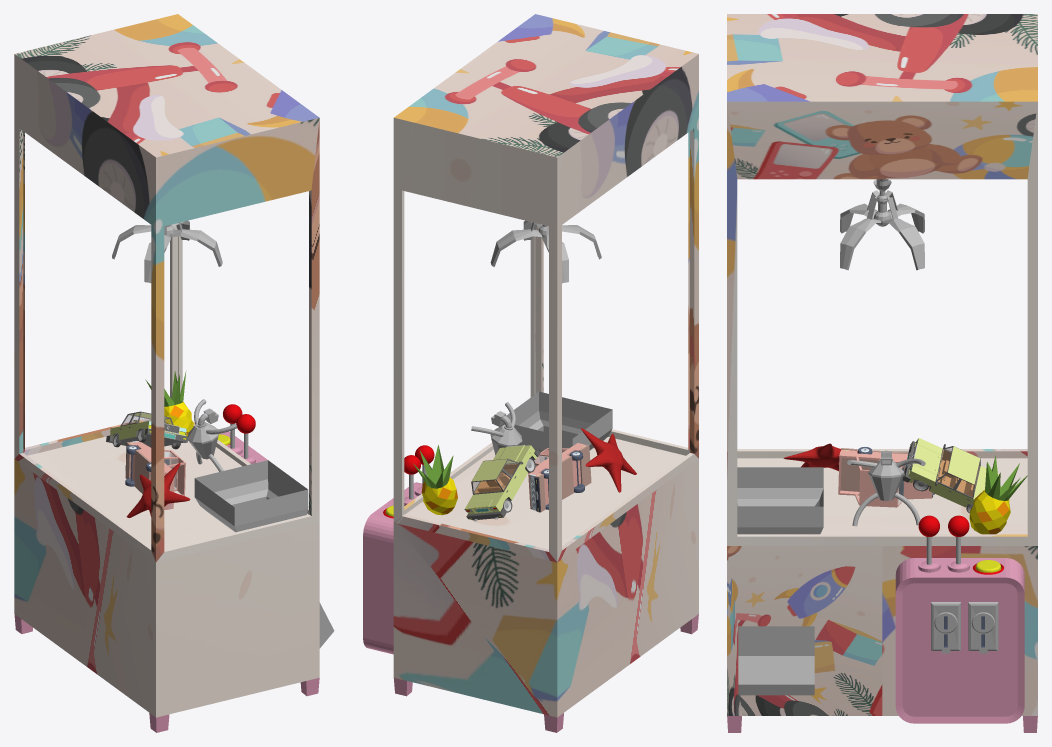
The model's file is clawmachine.fbx.
3 renders of one model, left to right at view 1: azimuth 30°, elevation 25°; view 2: azimuth 150°, elevation 25°; view 3: azimuth 270°, elevation 25°, orthographic. The views are drawn at different scales.
Visible parts, largest first — view 1: machine, car, claw, CarBody, robot, pineaple, star; view 2: machine, CarBody, car, pineaple, claw, star, robot; view 3: machine, CarBody, claw, car, pineaple, robot, star, joystick, joystick.001.
Part boxes in pixels (<box>): machine: <box>14,14,334,732</box>; car: <box>125,441,185,509</box>; claw: <box>112,220,222,283</box>; CarBody: <box>106,411,187,447</box>; robot: <box>187,399,237,471</box>; pineaple: <box>145,371,193,436</box>; star: <box>126,463,190,517</box>; machine: <box>363,14,698,732</box>; CarBody: <box>464,445,540,521</box>; car: <box>528,443,591,512</box>; pineaple: <box>413,445,457,515</box>; claw: <box>490,220,601,283</box>; star: <box>581,428,636,492</box>; robot: <box>471,402,522,455</box>; machine: <box>727,14,1037,732</box>; CarBody: <box>902,438,999,507</box>; claw: <box>840,179,924,270</box>; car: <box>838,447,934,507</box>; pineaple: <box>969,455,1027,534</box>; robot: <box>847,450,925,526</box>; star: <box>783,443,857,471</box>; joystick: <box>918,515,939,564</box>; joystick.001: <box>948,515,969,564</box>.
Size of the model in its own units: 0.5114 by 1.35 by 0.6.
Materials: 28 (3 with a texture image).
